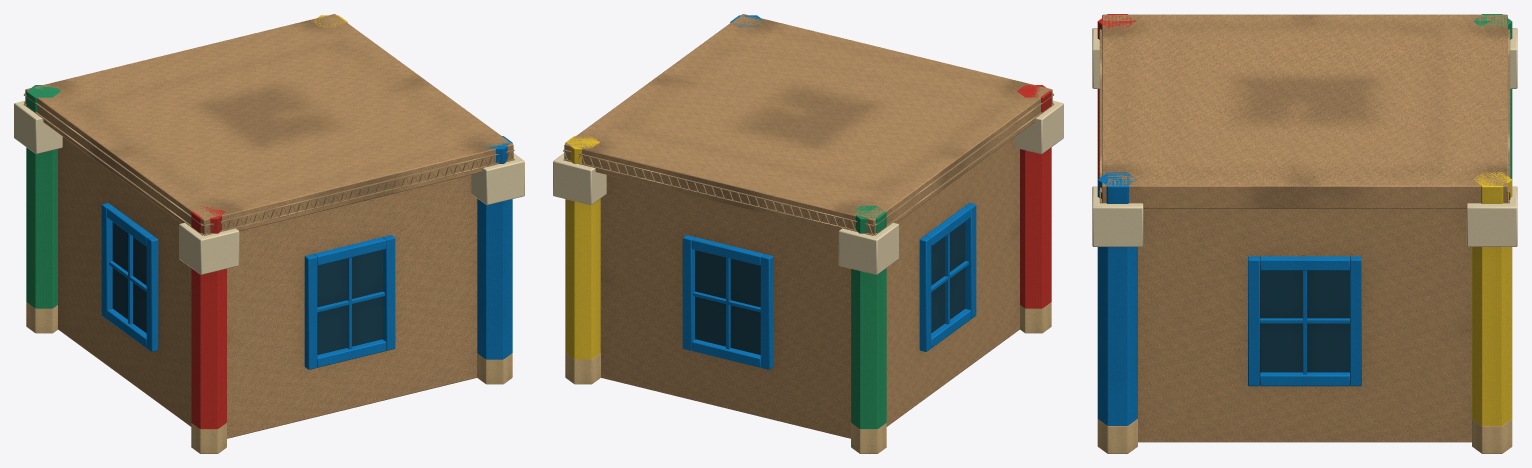
The model's file is 11-pencil-supported-box-6-1.fbx.
3 renders of one model, left to right at view 1: azimuth 30°, elevation 25°; view 2: azimuth 150°, elevation 25°; view 3: azimuth 270°, elevation 25°, orthographic. The views are drawn at different scales.
Parts seen in each view (by area): view 1: pencil-supported-box-6-1; view 2: pencil-supported-box-6-1; view 3: pencil-supported-box-6-1.
Part boxes in pixels (x1,y1,x2,y2): pencil-supported-box-6-1: [14, 14, 524, 453]; pencil-supported-box-6-1: [553, 14, 1063, 453]; pencil-supported-box-6-1: [1092, 14, 1517, 453].
Bounding box in the file's own units: 6700 × 4650 × 6700.
Materials: 1 (1 with a texture image).
